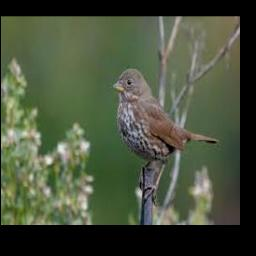Sparrow: (113, 68, 219, 205)
